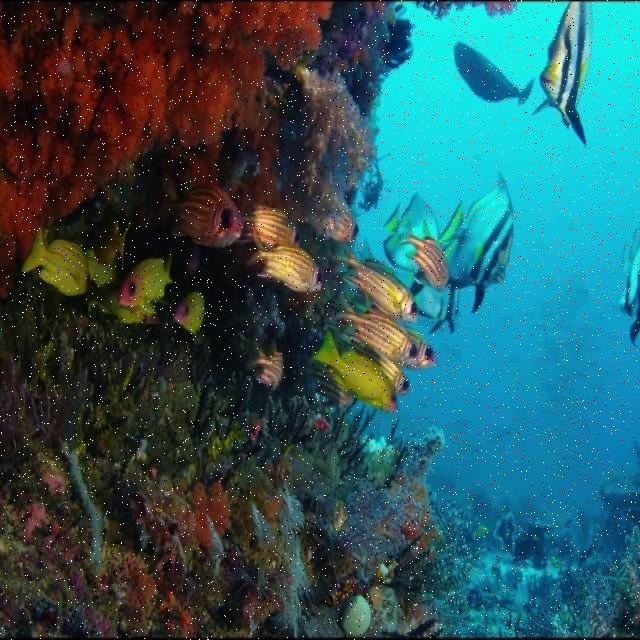aquatic plants: (0, 287, 472, 639), (295, 68, 378, 225)
fish: (23, 193, 438, 292), (437, 173, 513, 288), (533, 3, 592, 143), (311, 333, 397, 412), (333, 245, 419, 322), (333, 297, 418, 363), (454, 42, 534, 104), (163, 185, 242, 247), (397, 221, 450, 291), (248, 245, 323, 293), (118, 255, 174, 316), (619, 228, 639, 345), (310, 197, 360, 243), (248, 205, 299, 249), (249, 340, 284, 389), (174, 290, 206, 332)
reefs: (1, 0, 333, 296)
